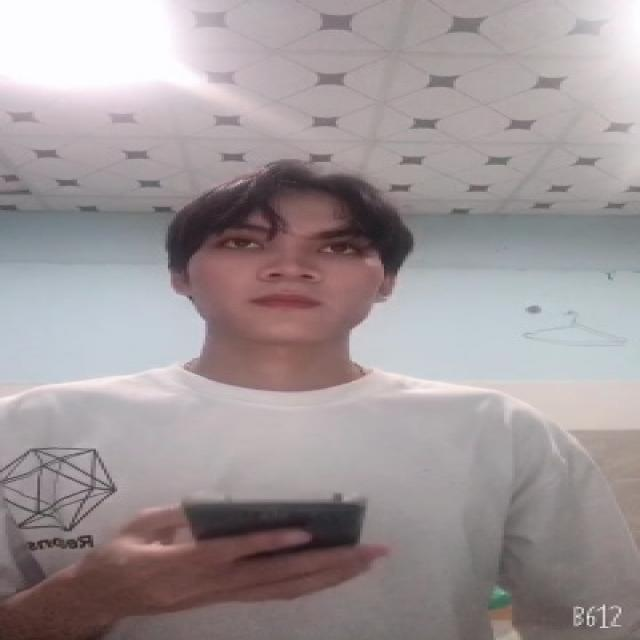Phone: (182, 490, 368, 555)
